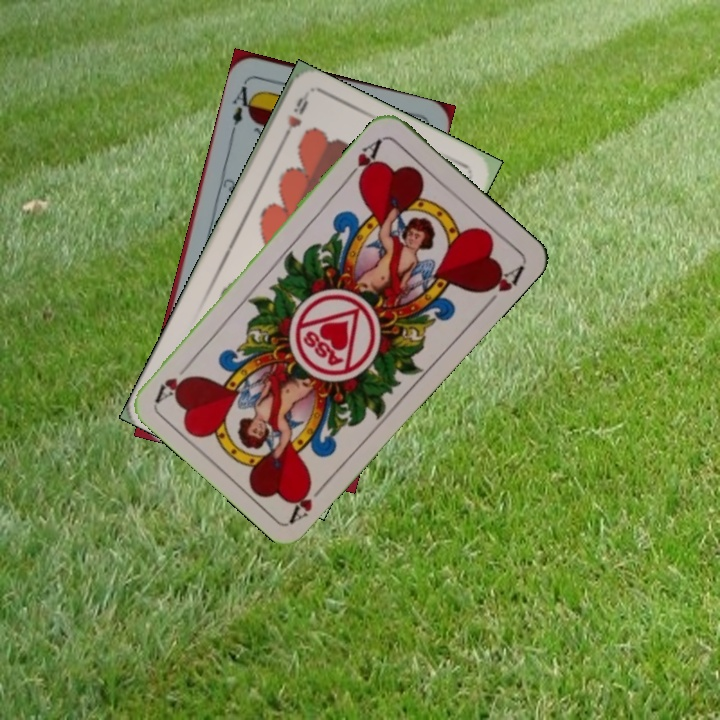EA: (227, 76, 258, 135)
H9: (277, 91, 311, 146)
HA: (286, 475, 331, 525), (342, 134, 385, 186)
